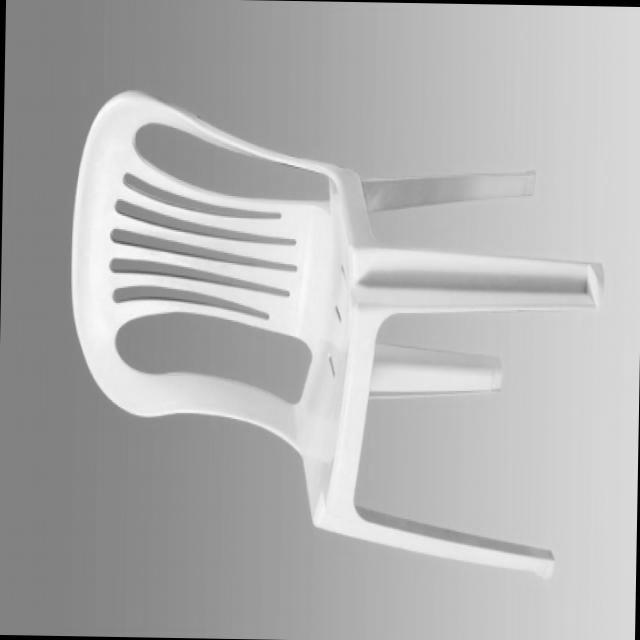chair: (61, 89, 610, 602)
